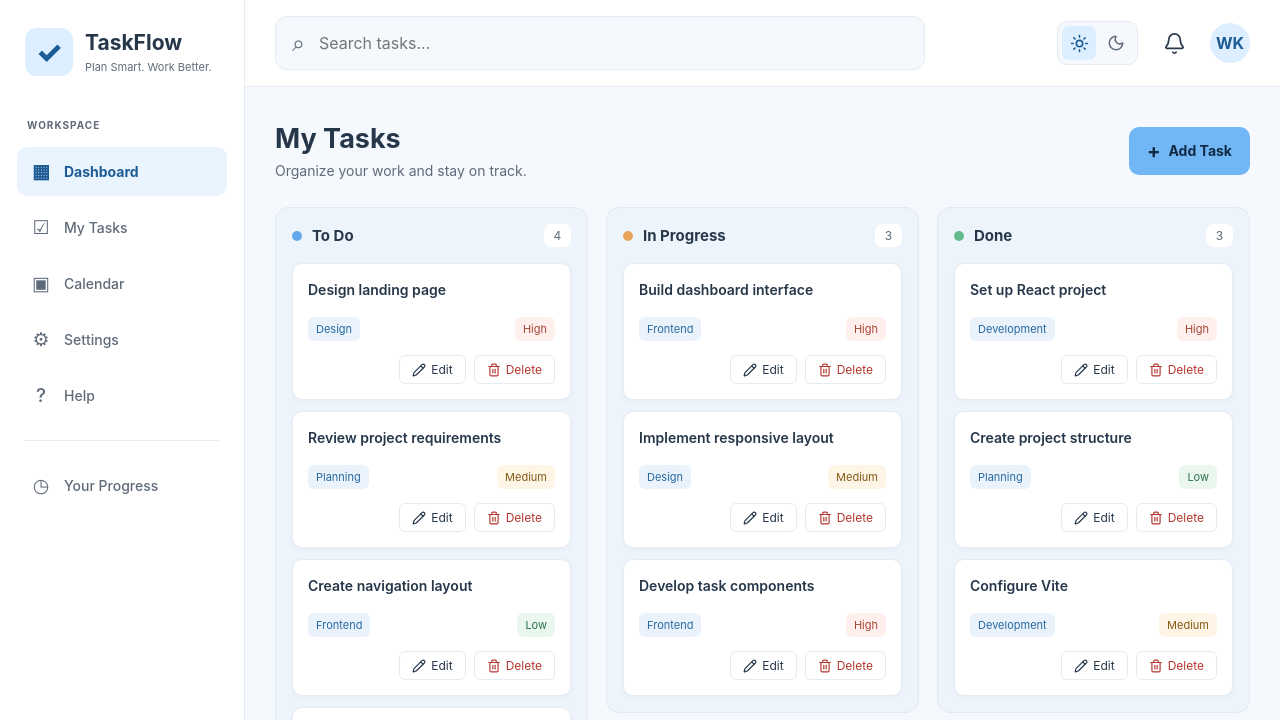
Test: dashboard task statistics › leaves an edited task unchanged after failure and retries the same task
This screenshot has width=1280, height=720.
Click the button with aria-label "Edit Design landing page" at x=432, y=370, box [399,355,466,384]
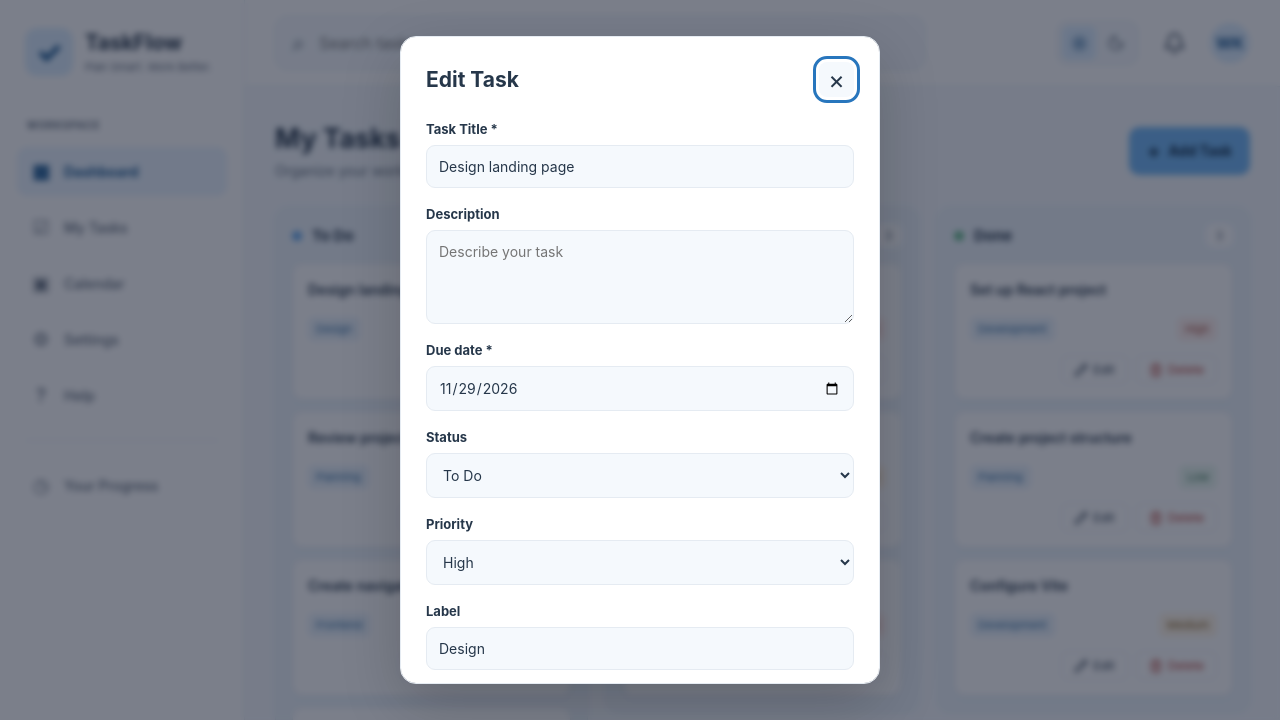
Result: the field labelled "Task Title *" holds "Design landing page"
Replace the text in the field labelled "Task Title *" with "Updated after retry" at x=640, y=166, box [426,145,854,188]
(page scrolled)
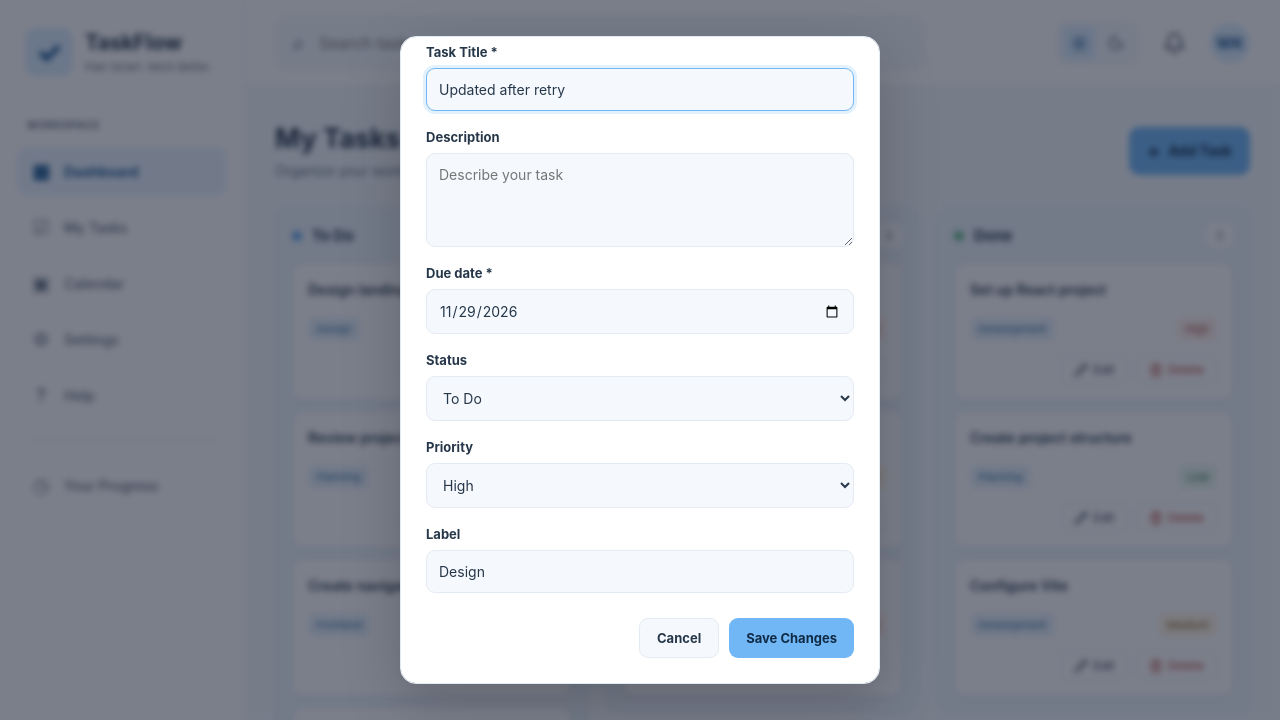
Click the button "Save Changes" at x=792, y=638, box [729,618,854,658]
(page scrolled)
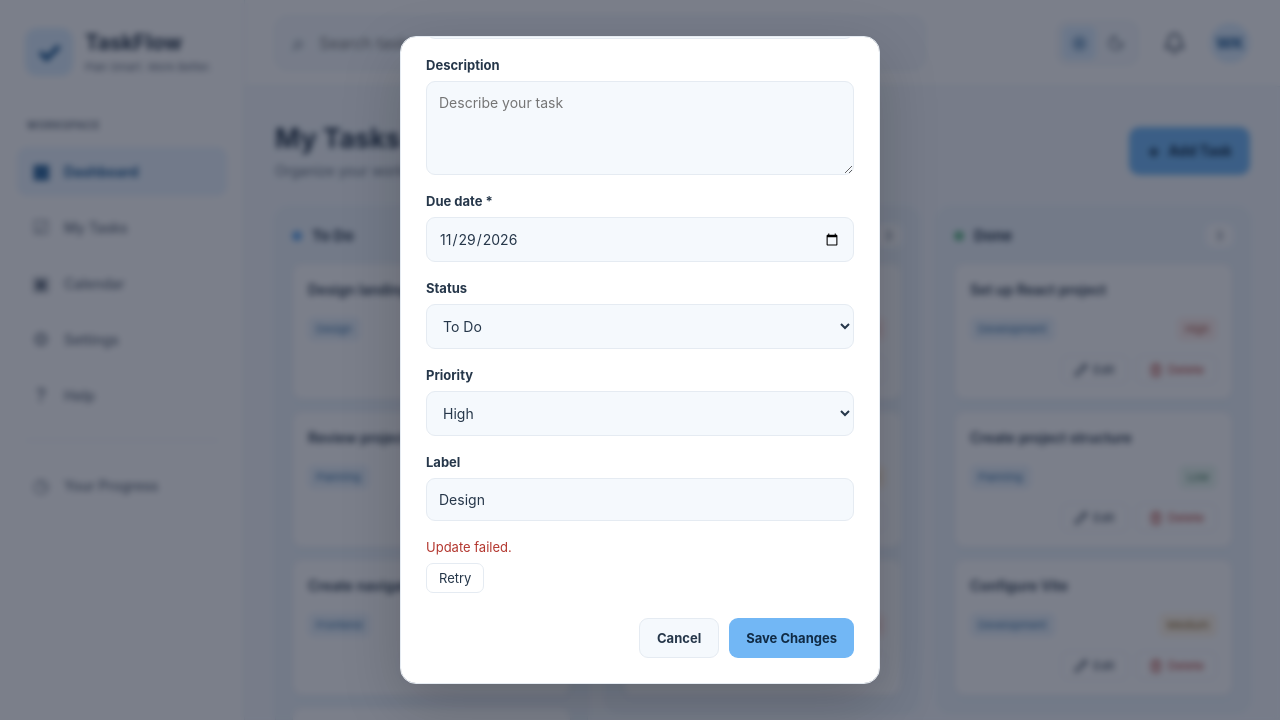
Expected: the element named "Design landing page, To Do" is shown, [292,263,571,400]
Result: the message shows "Update failed." at [426,539,512,555]
Click the button "Retry" at x=455, y=578, box [426,563,484,593]
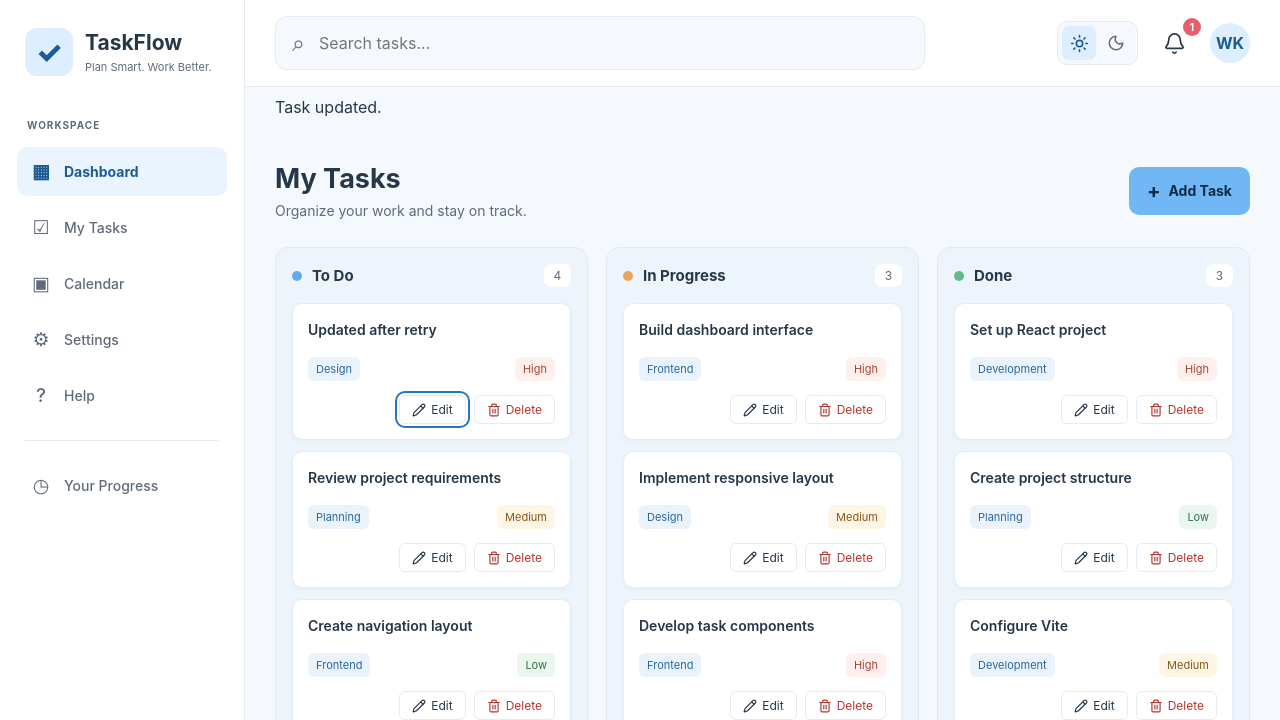
Result: the element named "Updated after retry, To Do" is shown at [292,303,571,440]
